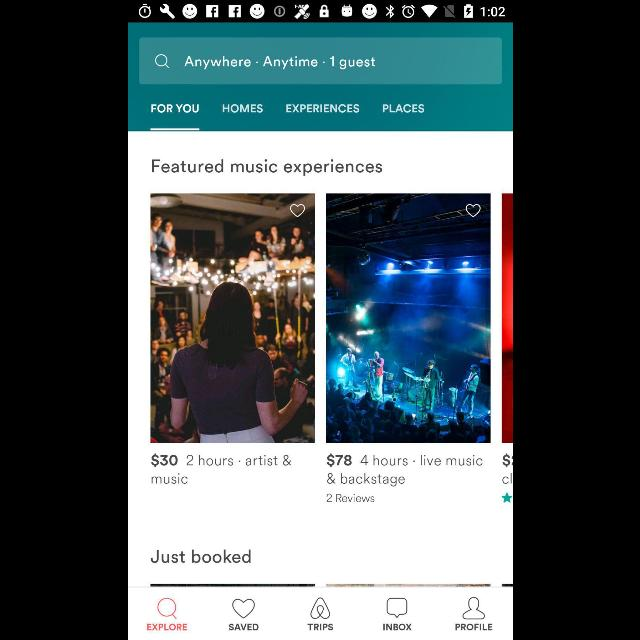icon: (462, 596, 484, 620), (232, 599, 254, 619), (156, 598, 176, 618), (386, 598, 406, 618), (154, 54, 168, 68), (466, 205, 480, 218), (290, 205, 304, 218)
image: (150, 194, 314, 442), (326, 194, 490, 442), (309, 597, 329, 619)
input: (138, 37, 502, 84)
text: (326, 454, 482, 486), (150, 454, 290, 484), (151, 160, 381, 177), (183, 56, 374, 70), (150, 550, 250, 564), (286, 105, 358, 114), (150, 105, 198, 114), (326, 493, 374, 502), (382, 105, 424, 114), (146, 623, 187, 631), (222, 105, 262, 113), (454, 624, 492, 630), (382, 624, 412, 630), (228, 624, 258, 630), (307, 624, 333, 630)
uppertaskbar: (128, 1, 512, 23)
